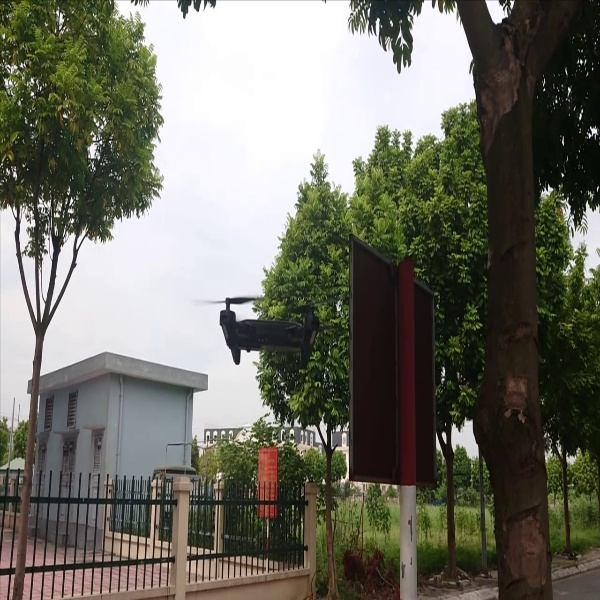drone: (193, 289, 333, 369)
